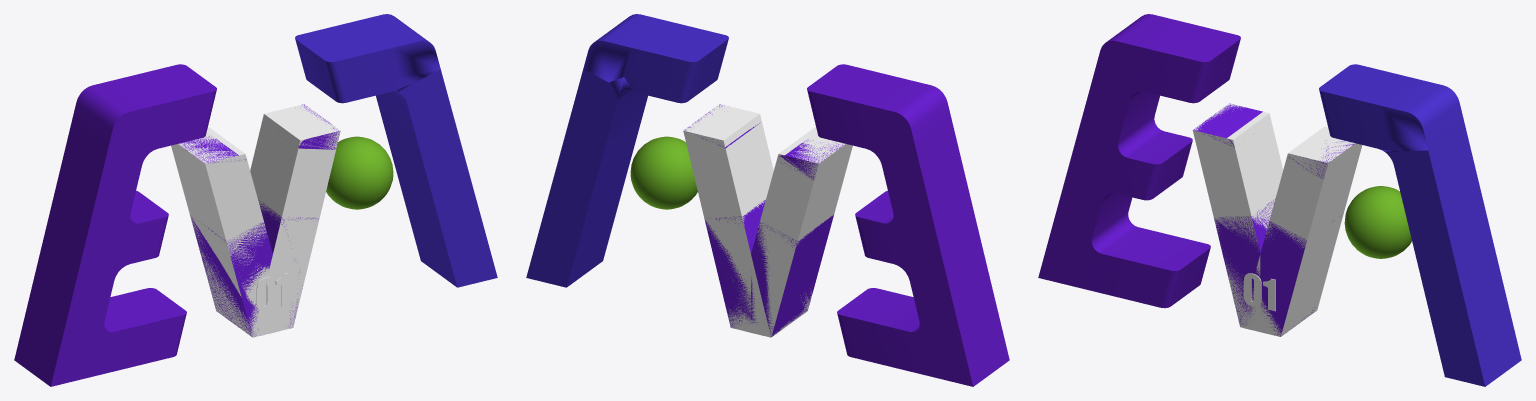
The model's file is EVA.obj.
The picture shows the model from 3 angles, left to right: view 1: azimuth 30°, elevation 25°; view 2: azimuth 150°, elevation 25°; view 3: azimuth 330°, elevation 25°; orthographic projection.
Visible parts, largest first — view 1: E, A, 立方体.1, 立方体.2, V, 球体, 0; view 2: E, A, 立方体.1, 立方体.2, V, 球体; view 3: E, A, 立方体.1, 立方体.2, V, 球体, 0.
Boxes of the visible parts, box(x1,y1,x2,y2) form: E: box(14, 64, 216, 386); A: box(295, 14, 497, 287); 立方体.1: box(250, 104, 340, 332); 立方体.2: box(171, 127, 273, 337); V: box(180, 104, 339, 336); 球体: box(326, 136, 393, 209); 0: box(256, 277, 274, 310); E: box(807, 64, 1009, 386); A: box(526, 14, 728, 287); 立方体.1: box(683, 104, 773, 337); 立方体.2: box(736, 127, 852, 337); V: box(684, 104, 843, 336); 球体: box(630, 136, 697, 209); E: box(1038, 14, 1240, 308); A: box(1319, 64, 1521, 386); 立方体.1: box(1241, 126, 1362, 336); 立方体.2: box(1192, 103, 1283, 329); V: box(1193, 103, 1353, 336); 球体: box(1344, 186, 1411, 258); 0: box(1243, 273, 1261, 306).
Size of the model in its own units: 354 by 194 by 50.55.
